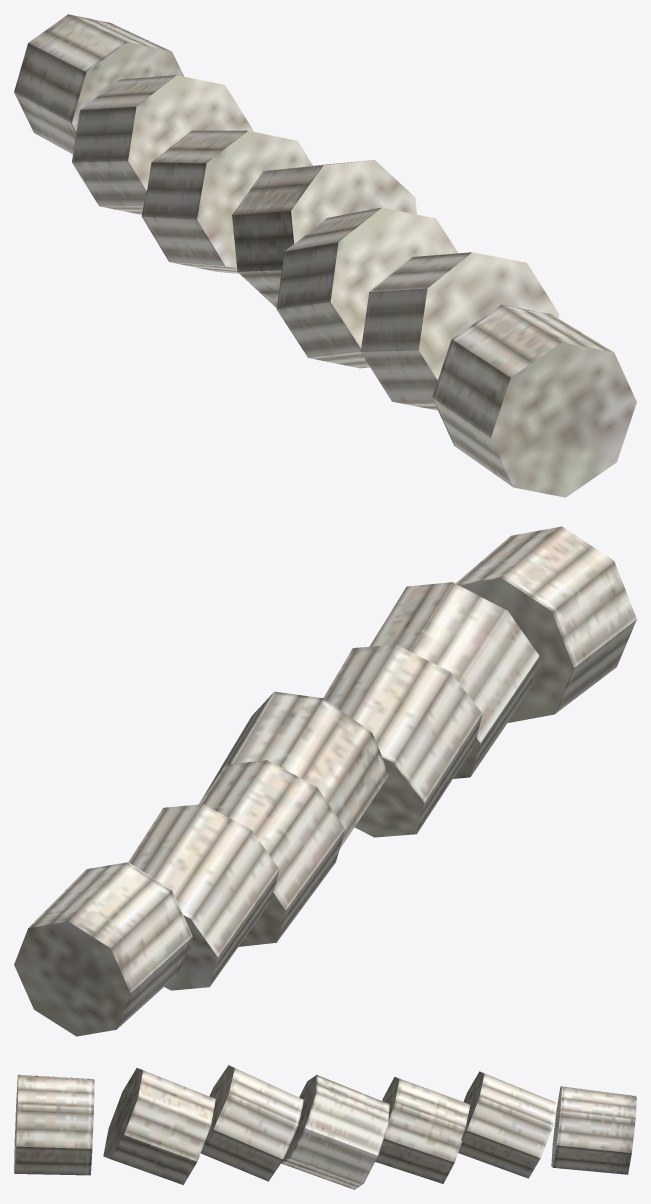
The model's file is column_doric_fallen_1.glb.
The picture shows the model from 3 angles, top to bottom: view 1: azimuth 30°, elevation 25°; view 2: azimuth 150°, elevation 25°; view 3: azimuth 270°, elevation 25°; orthographic projection. The views are drawn at different scales.
Parts seen in each view (by area): view 1: m_props_column_fallen_b_mesh; view 2: m_props_column_fallen_b_mesh; view 3: m_props_column_fallen_b_mesh.
Part boxes in pixels (x1,y1,x2,y2): m_props_column_fallen_b_mesh: [14, 14, 636, 497]; m_props_column_fallen_b_mesh: [14, 526, 636, 1036]; m_props_column_fallen_b_mesh: [14, 1065, 636, 1189].
Size of the model in its own units: 2.09 by 2.37 by 11.4.
Materials: 1 (1 with a texture image).
